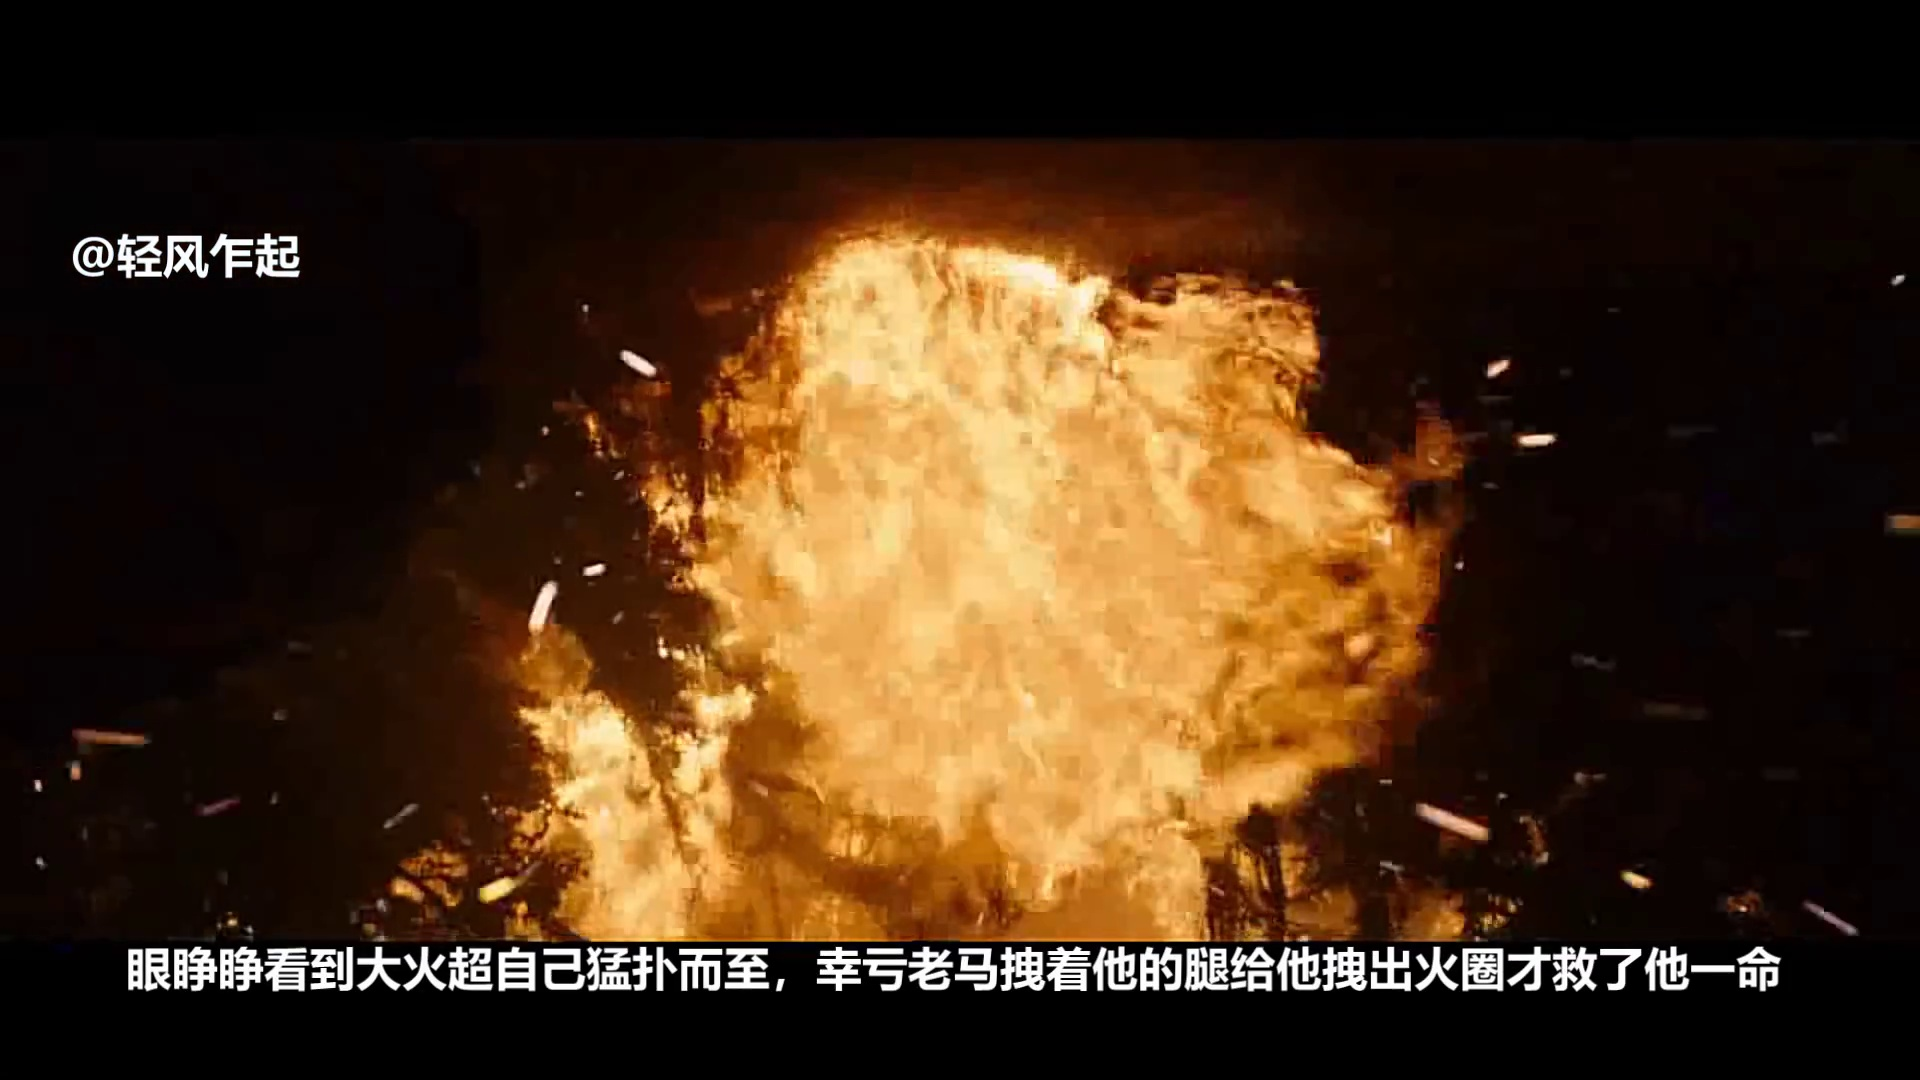fire: (509, 232, 1439, 942)
